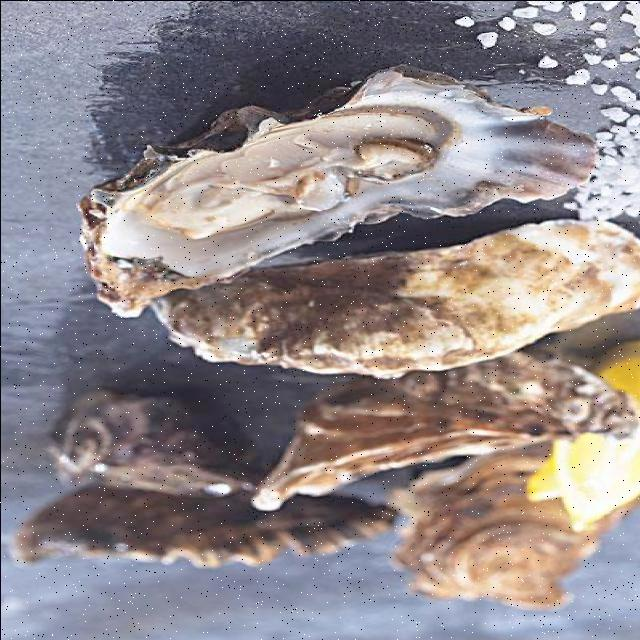Oyster-Closed: (152, 222, 640, 381), (253, 353, 640, 513), (390, 441, 634, 613), (8, 489, 397, 571), (48, 391, 286, 499)
Oyster-Open: (82, 67, 596, 313)
